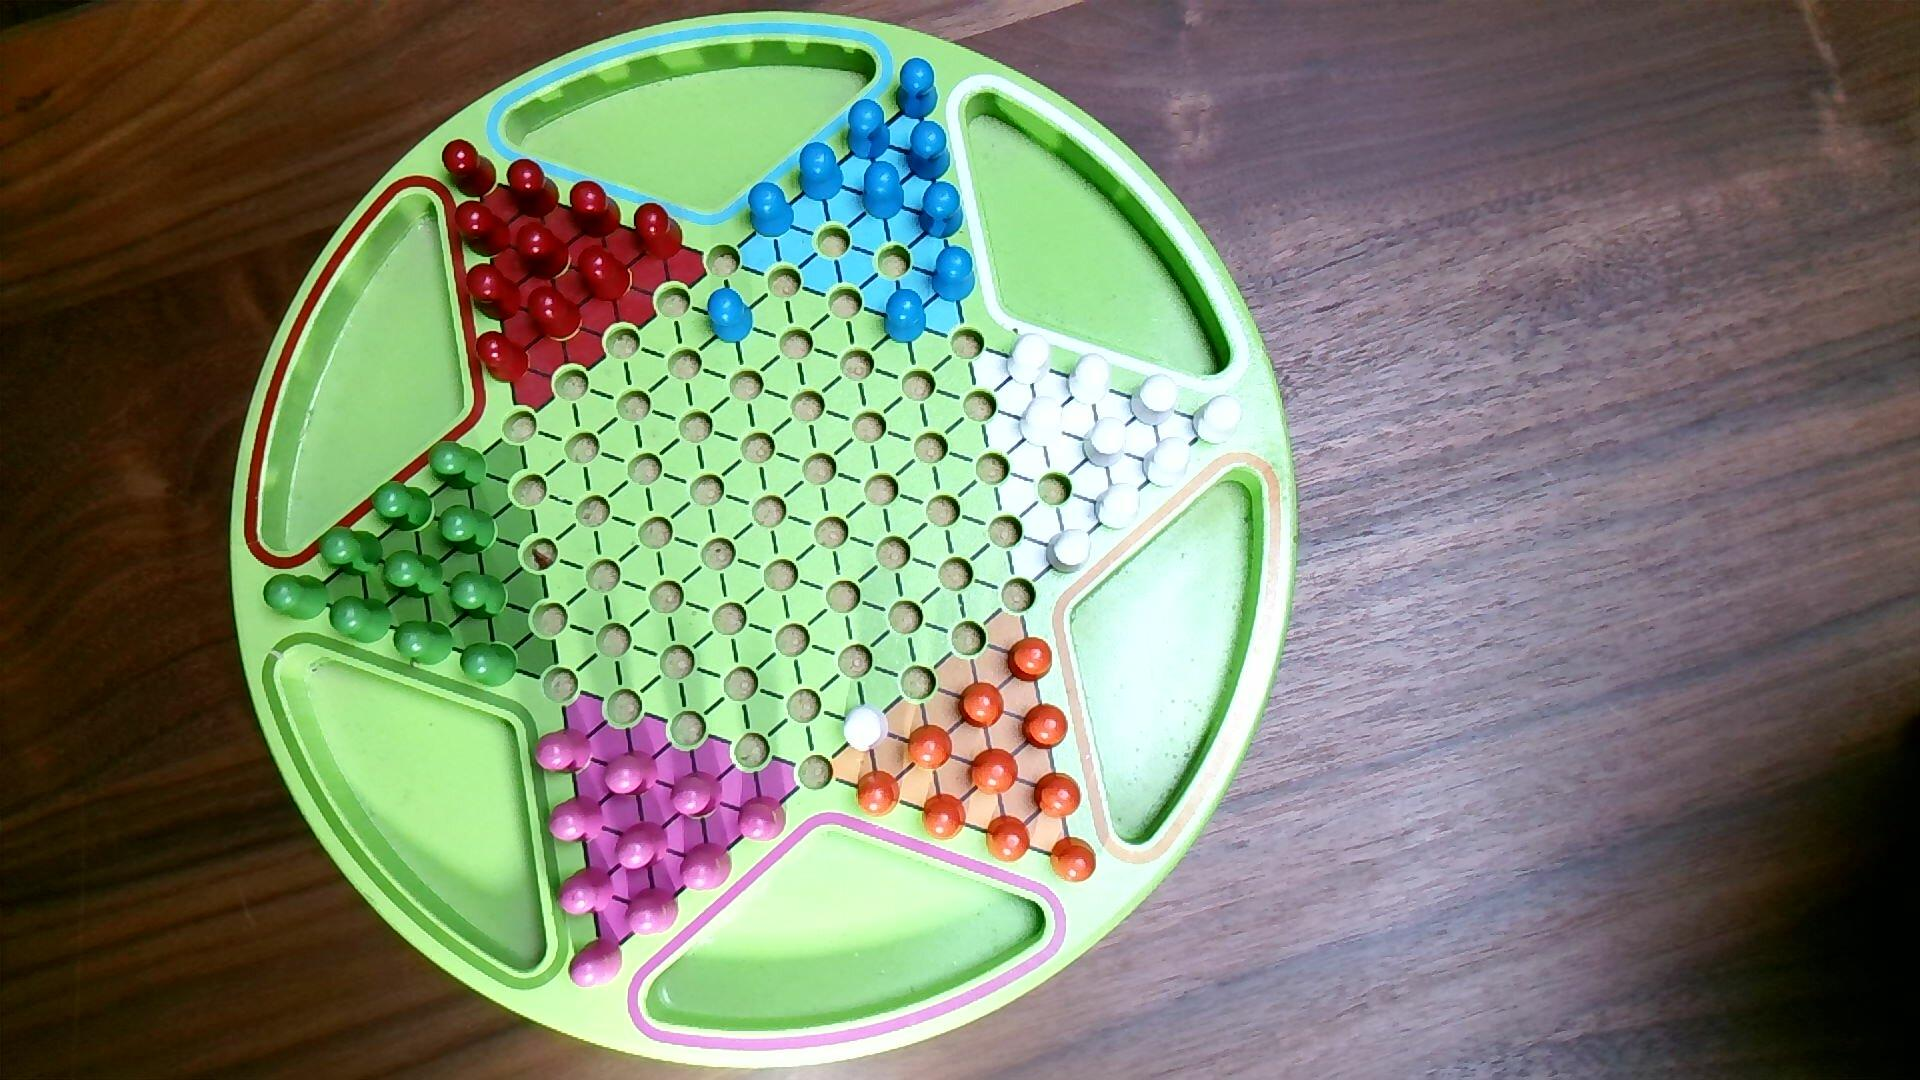B: (894, 55, 942, 123), (905, 120, 953, 185), (916, 179, 967, 241), (798, 141, 847, 204), (845, 98, 893, 162), (746, 179, 796, 240), (707, 286, 756, 345), (861, 160, 907, 222), (931, 244, 977, 305), (882, 287, 928, 345)
G: (316, 525, 386, 579), (371, 480, 436, 534), (328, 593, 393, 646), (262, 574, 331, 622), (448, 568, 509, 622), (382, 549, 444, 601), (427, 440, 489, 493), (436, 504, 498, 556), (392, 618, 456, 669), (459, 641, 520, 690)
O: (969, 746, 1021, 796), (1033, 771, 1084, 822), (1048, 835, 1098, 885), (957, 680, 1007, 731), (984, 814, 1033, 864), (855, 769, 903, 819), (1021, 702, 1069, 752), (920, 793, 968, 843), (907, 723, 955, 773), (1006, 636, 1054, 684)
R: (454, 199, 514, 260), (465, 262, 524, 324), (440, 138, 498, 200), (504, 158, 560, 222), (576, 244, 634, 305), (516, 222, 571, 284), (568, 179, 622, 241), (526, 285, 584, 342), (475, 330, 531, 386), (633, 202, 684, 262)
R2: (546, 794, 607, 847), (533, 727, 593, 778), (567, 938, 625, 990), (613, 820, 671, 873), (669, 769, 727, 822), (558, 865, 617, 916), (603, 748, 659, 799), (625, 886, 680, 938), (679, 841, 735, 893), (737, 794, 789, 844)
W: (1127, 373, 1182, 429), (1141, 436, 1193, 491), (1191, 394, 1245, 447), (1081, 415, 1130, 469), (1005, 332, 1054, 386), (1067, 352, 1114, 407), (843, 703, 891, 756), (1018, 396, 1065, 450), (1093, 483, 1142, 533), (1044, 527, 1093, 576)
